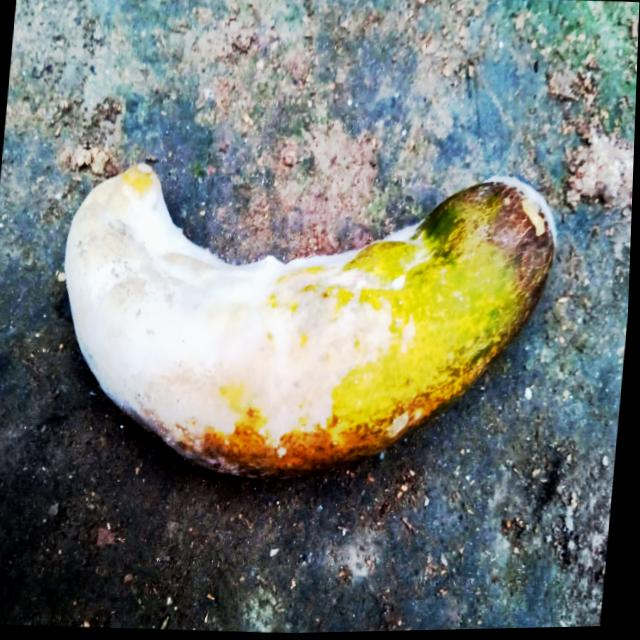Pythium-Fruit-Rot: (51, 180, 436, 485), (484, 170, 570, 248)
